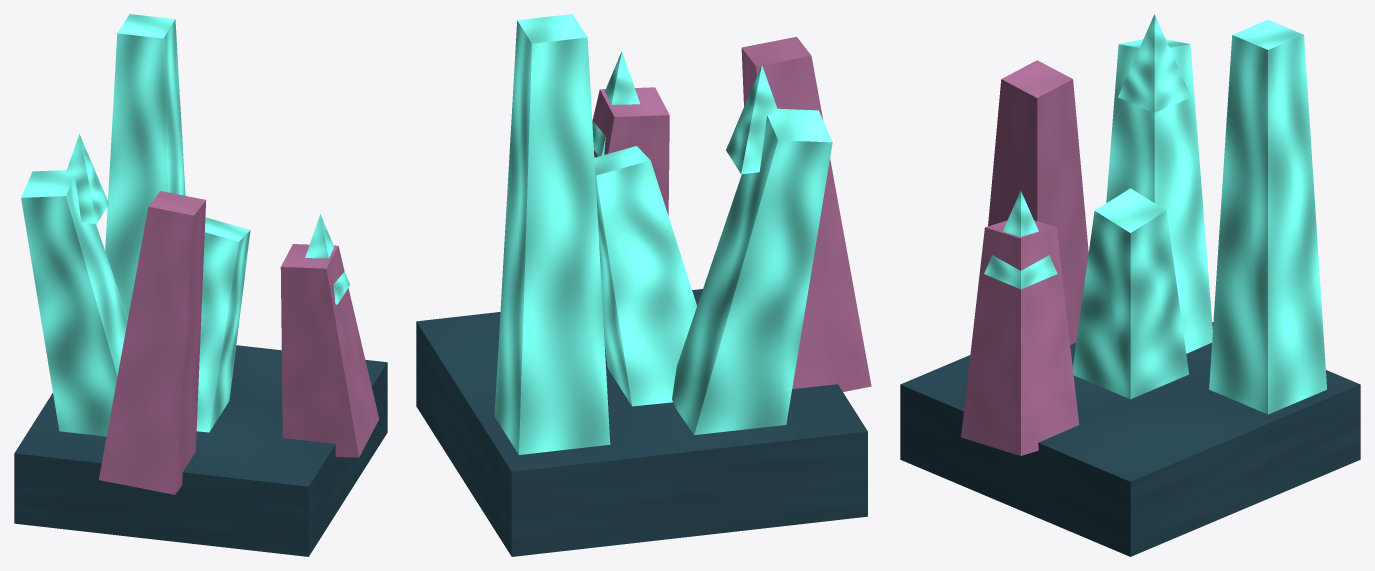
The model's file is atlas100-s062-a04.lod2.glb.
3 views of the same model, side by side, from view 1: azimuth 30°, elevation 25°; view 2: azimuth 150°, elevation 25°; view 3: azimuth 270°, elevation 25° (orthographic). The views are drawn at different scales.
Parts seen in each view (by area): view 1: atlas100-s062-a04:part-000, atlas100-s062-a04:part-003, atlas100-s062-a04:part-009, atlas100-s062-a04:part-005, atlas100-s062-a04:part-007, atlas100-s062-a04:part-001, atlas100-s062-a04:part-010, atlas100-s062-a04:part-008; view 2: atlas100-s062-a04:part-000, atlas100-s062-a04:part-005, atlas100-s062-a04:part-009, atlas100-s062-a04:part-001, atlas100-s062-a04:part-003, atlas100-s062-a04:part-007, atlas100-s062-a04:part-010, atlas100-s062-a04:part-008; view 3: atlas100-s062-a04:part-000, atlas100-s062-a04:part-005, atlas100-s062-a04:part-007, atlas100-s062-a04:part-001, atlas100-s062-a04:part-003, atlas100-s062-a04:part-009, atlas100-s062-a04:part-010, atlas100-s062-a04:part-008.
Part boxes in pixels (bbox=[...]): atlas100-s062-a04:part-000: bbox=[14, 345, 387, 556]; atlas100-s062-a04:part-003: bbox=[99, 191, 206, 494]; atlas100-s062-a04:part-009: bbox=[21, 170, 127, 436]; atlas100-s062-a04:part-005: bbox=[105, 14, 185, 317]; atlas100-s062-a04:part-007: bbox=[280, 244, 379, 457]; atlas100-s062-a04:part-001: bbox=[196, 217, 250, 432]; atlas100-s062-a04:part-010: bbox=[64, 134, 109, 224]; atlas100-s062-a04:part-008: bbox=[305, 214, 349, 304]; atlas100-s062-a04:part-000: bbox=[416, 289, 867, 556]; atlas100-s062-a04:part-005: bbox=[494, 14, 610, 454]; atlas100-s062-a04:part-009: bbox=[672, 108, 832, 434]; atlas100-s062-a04:part-001: bbox=[594, 146, 696, 406]; atlas100-s062-a04:part-003: bbox=[741, 36, 871, 391]; atlas100-s062-a04:part-007: bbox=[592, 87, 669, 215]; atlas100-s062-a04:part-010: bbox=[726, 65, 779, 174]; atlas100-s062-a04:part-008: bbox=[592, 51, 640, 156]; atlas100-s062-a04:part-000: bbox=[900, 322, 1360, 556]; atlas100-s062-a04:part-005: bbox=[1209, 20, 1326, 414]; atlas100-s062-a04:part-007: bbox=[961, 220, 1079, 455]; atlas100-s062-a04:part-001: bbox=[1072, 188, 1188, 399]; atlas100-s062-a04:part-003: bbox=[988, 60, 1088, 344]; atlas100-s062-a04:part-009: bbox=[1106, 39, 1212, 353]; atlas100-s062-a04:part-010: bbox=[1118, 14, 1191, 112]; atlas100-s062-a04:part-008: bbox=[984, 191, 1057, 289].
Bounding box in the file's own units: 1.07 × 1.1 × 1.07.
Materials: 3 (3 with a texture image).
